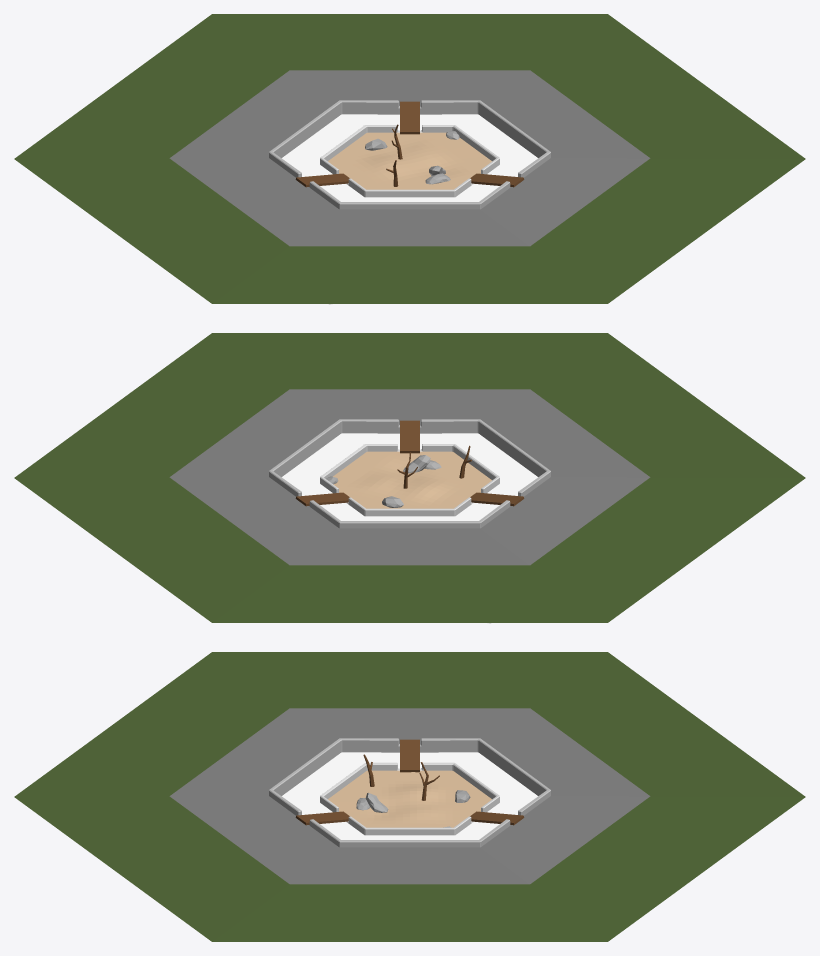
The model's file is Enclosure.glb.
3 renders of one model, top to bottom at view 1: azimuth 30°, elevation 25°; view 2: azimuth 150°, elevation 25°; view 3: azimuth 270°, elevation 25°, orthographic.
Parts seen in each view (by area): view 1: Enclosure.002, Water, Sand-col, Enclosure.001, Enclosure-col, Plank.002Plank-col; view 2: Enclosure.002, Water, Sand-col, Enclosure.001, Enclosure-col, PlankPlank-col; view 3: Enclosure.002, Water, Sand-col, Enclosure.001, Enclosure-col, Plank.001Plank-col.
Boxes of the visible parts, bbox=[...] form: Enclosure.002: bbox=[14, 14, 805, 303]; Water: bbox=[282, 114, 537, 201]; Sand-col: bbox=[328, 132, 491, 189]; Enclosure.001: bbox=[269, 100, 550, 209]; Enclosure-col: bbox=[320, 125, 499, 197]; Plank.002Plank-col: bbox=[400, 101, 419, 134]; Enclosure.002: bbox=[14, 333, 805, 622]; Water: bbox=[282, 433, 537, 520]; Sand-col: bbox=[333, 451, 491, 508]; Enclosure.001: bbox=[269, 419, 550, 528]; Enclosure-col: bbox=[320, 444, 499, 516]; PlankPlank-col: bbox=[400, 420, 419, 453]; Enclosure.002: bbox=[14, 652, 805, 941]; Water: bbox=[282, 752, 537, 839]; Sand-col: bbox=[328, 770, 491, 827]; Enclosure.001: bbox=[269, 738, 550, 847]; Enclosure-col: bbox=[320, 762, 499, 835]; Plank.001Plank-col: bbox=[400, 739, 419, 772].
Size of what is drawn, in the model's own units: 93.5 by 7.95 by 108.
